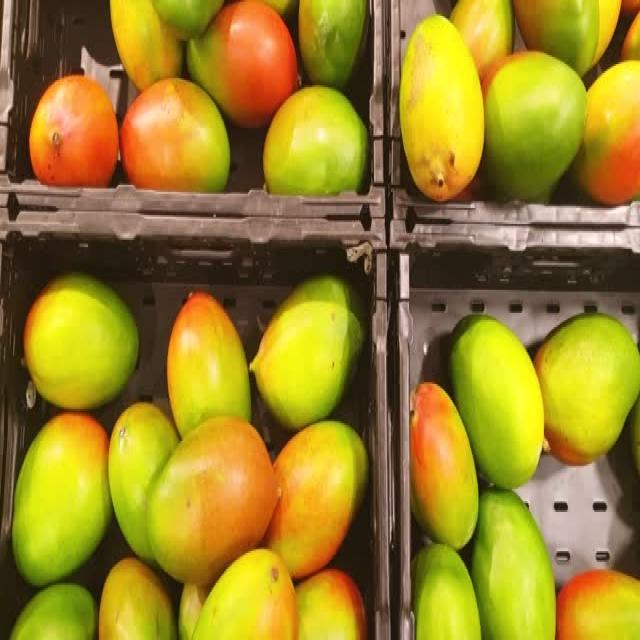mango: (148, 416, 278, 583), (250, 276, 365, 429), (12, 413, 112, 586), (265, 420, 369, 578), (449, 316, 544, 488), (399, 13, 484, 199), (534, 316, 640, 464), (24, 273, 139, 409), (484, 51, 586, 201), (186, 0, 298, 126), (120, 78, 230, 192), (471, 491, 555, 639), (168, 293, 251, 437), (411, 382, 479, 548), (109, 402, 179, 561), (264, 87, 368, 194), (192, 549, 298, 640), (574, 60, 640, 203), (30, 80, 119, 186), (412, 544, 481, 640), (111, 0, 182, 90), (99, 558, 176, 640), (514, 0, 598, 74), (299, 0, 368, 88), (556, 569, 640, 640), (295, 569, 368, 640), (10, 584, 98, 639)
